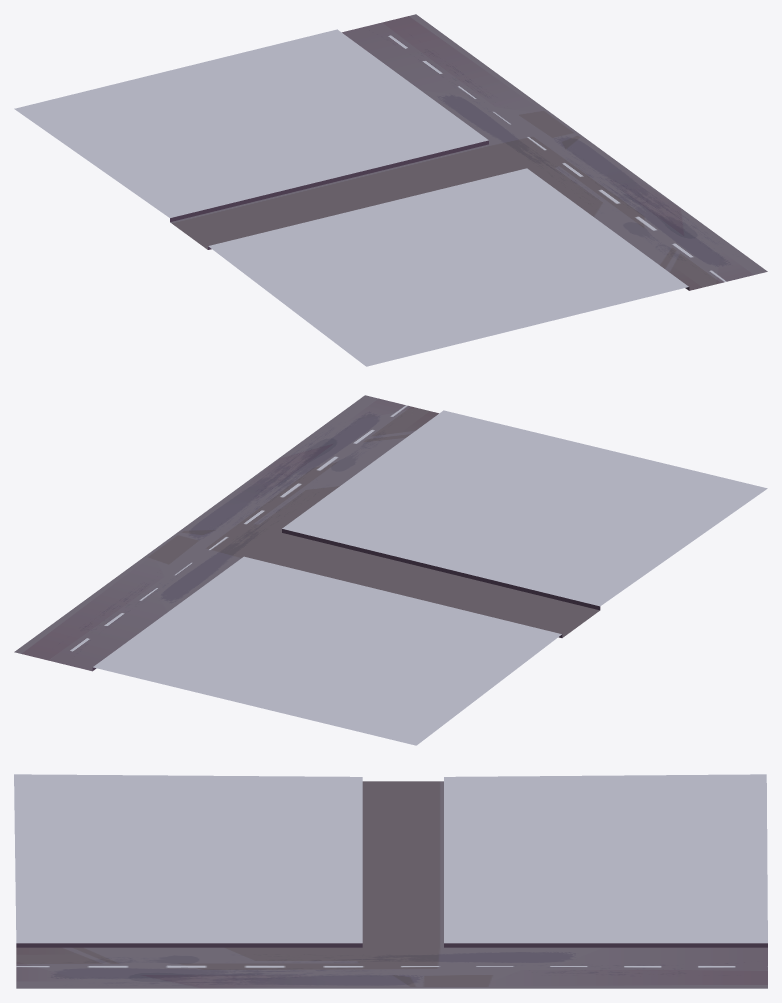
Rendered from road.glb.
The picture shows the model from 3 angles, top to bottom: view 1: azimuth 30°, elevation 25°; view 2: azimuth 150°, elevation 25°; view 3: azimuth 270°, elevation 25°; orthographic projection. The views are drawn at different scales.
Visible parts, largest first — view 1: Plane_Road_0.007, Plane_Road_0.006, Plane_Road_0.009, Plane_Road_0.008; view 2: Plane_Road_0.007, Plane_Road_0.006, Plane_Road_0.009, Plane_Road_0.008; view 3: Plane_Road_0.007, Plane_Road_0.006, Plane_Road_0.009, Plane_Road_0.008.
Part boxes in pixels (bbox=[...]): Plane_Road_0.007: bbox=[208, 168, 689, 366]; Plane_Road_0.006: bbox=[14, 29, 488, 221]; Plane_Road_0.009: bbox=[342, 14, 767, 290]; Plane_Road_0.008: bbox=[170, 144, 522, 249]; Plane_Road_0.007: bbox=[282, 410, 767, 610]; Plane_Road_0.006: bbox=[92, 556, 562, 745]; Plane_Road_0.009: bbox=[14, 395, 438, 671]; Plane_Road_0.008: bbox=[248, 533, 599, 637]; Plane_Road_0.007: bbox=[14, 774, 362, 947]; Plane_Road_0.006: bbox=[444, 774, 767, 947]; Plane_Road_0.009: bbox=[16, 947, 767, 988]; Plane_Road_0.008: bbox=[362, 781, 443, 947].
Bounding box in the file's own units: 4.31 × 0.0412 × 6.54.
1 material, 1 textured.
